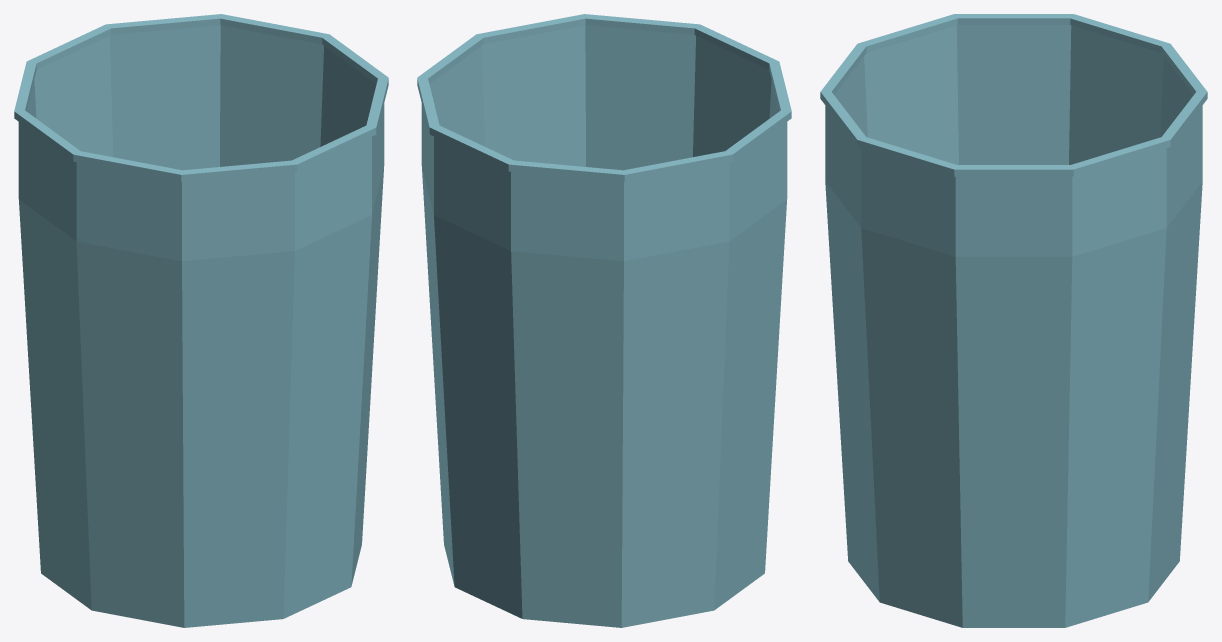
Rendered from coffePaperCup.fbx.
3 views of the same model, side by side, from view 1: azimuth 30°, elevation 25°; view 2: azimuth 150°, elevation 25°; view 3: azimuth 270°, elevation 25° (orthographic).
Visible parts, largest first — view 1: Circle; view 2: Circle; view 3: Circle.
Part boxes in pixels (box(x1,y1,x2,y2)): Circle: box(14, 14, 388, 627); Circle: box(417, 14, 791, 627); Circle: box(820, 14, 1207, 627).
Bounding box in the file's own units: 2.22 × 3.12 × 2.33.
